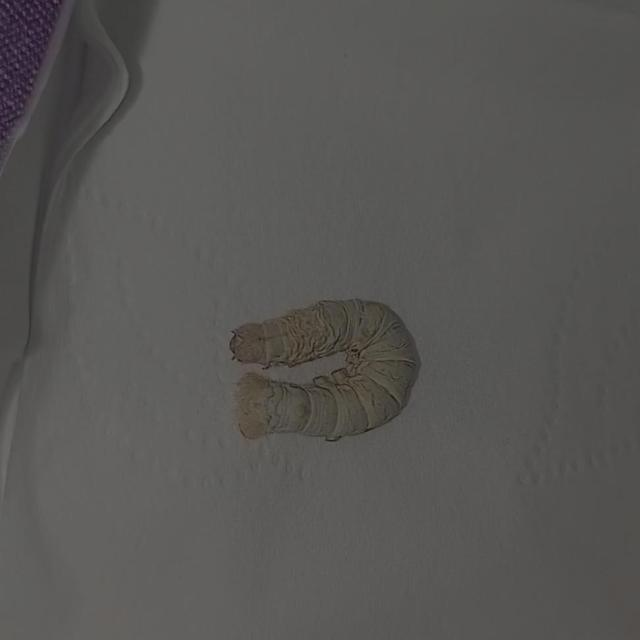Healthy: (206, 240, 469, 477)
